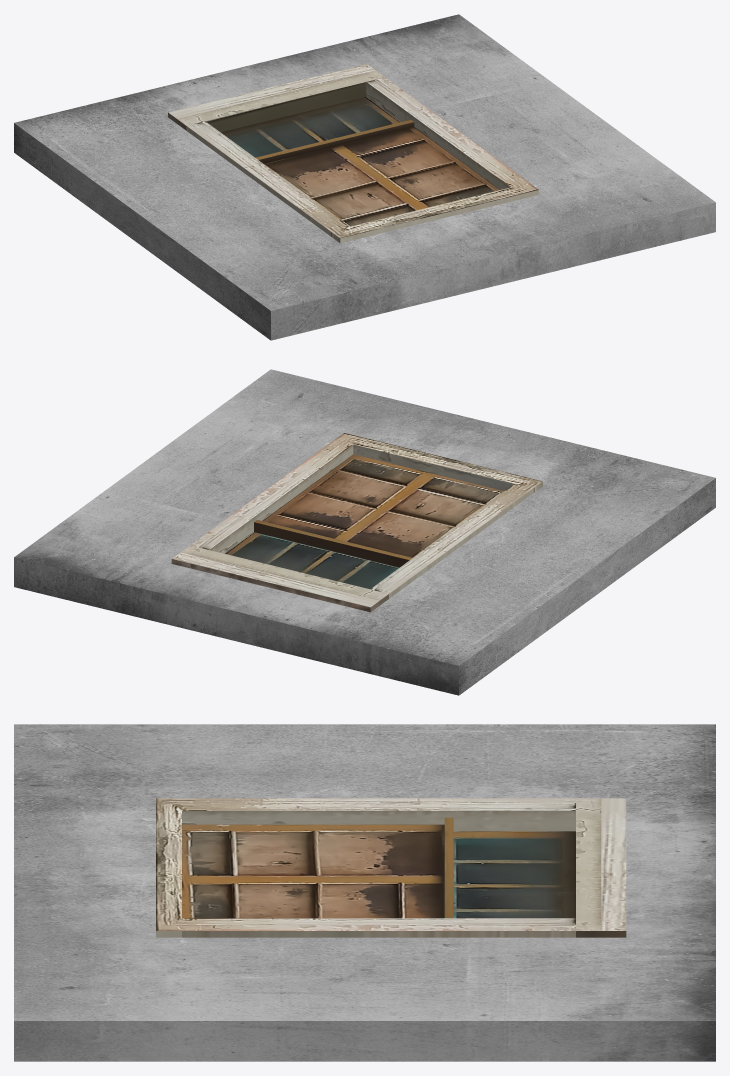
File: wall 2 + window.fbx
3 views of the same model, one above another, from view 1: azimuth 30°, elevation 25°; view 2: azimuth 150°, elevation 25°; view 3: azimuth 270°, elevation 25° (orthographic). The views are drawn at different scales.
Parts seen in each view (by area): view 1: cuboid, cuboid_1; view 2: cuboid, cuboid_1; view 3: cuboid, cuboid_1.
Part boxes in pixels (x1,y1,x2,y2): cuboid: [14, 14, 715, 340]; cuboid_1: [168, 64, 538, 243]; cuboid: [14, 369, 715, 695]; cuboid_1: [171, 433, 542, 612]; cuboid: [14, 724, 715, 1061]; cuboid_1: [156, 798, 626, 937].
Bounding box in the file's own units: 588 × 62.5 × 588.
Materials: 2 (2 with a texture image).
